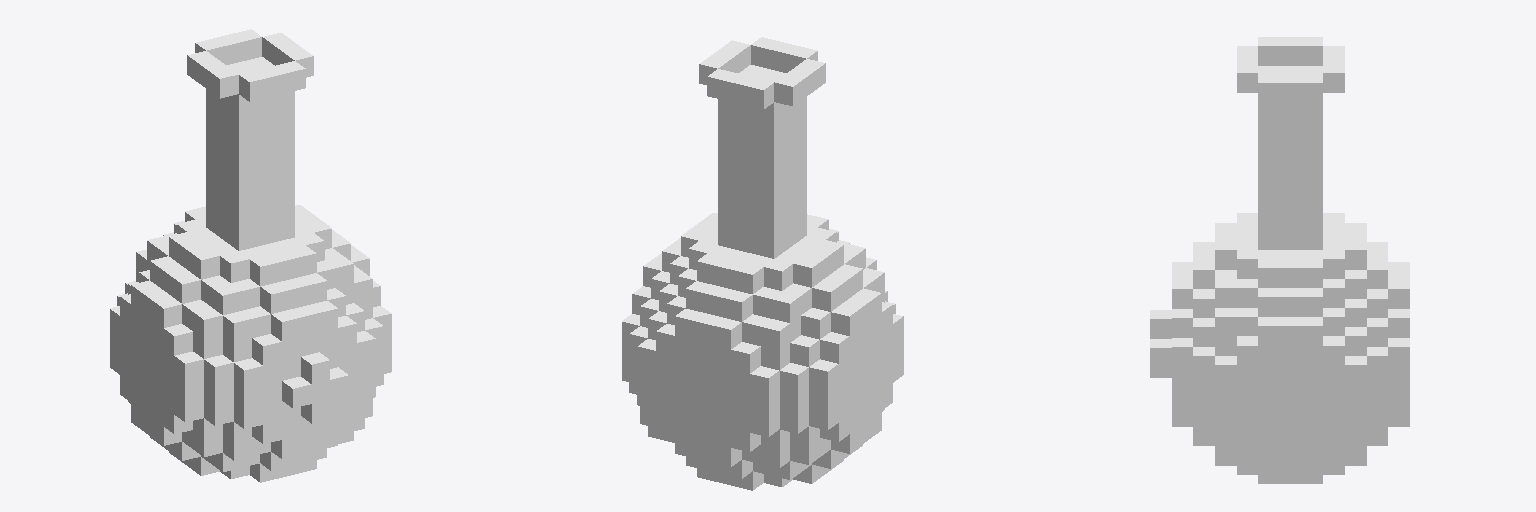
File: antidoto_2.obj
3 renders of one model, left to right at view 1: azimuth 30°, elevation 25°; view 2: azimuth 150°, elevation 25°; view 3: azimuth 270°, elevation 25°, orthographic.
Parts seen in each view (by area): view 1: object 1; view 2: object 1; view 3: object 1.
Boxes of the visible parts, x1,y1,x2,y2 form: object 1: [110, 29, 391, 482]; object 1: [622, 37, 903, 490]; object 1: [1150, 37, 1409, 483].
Bounding box in the file's own units: 1.1 × 2 × 1.2.